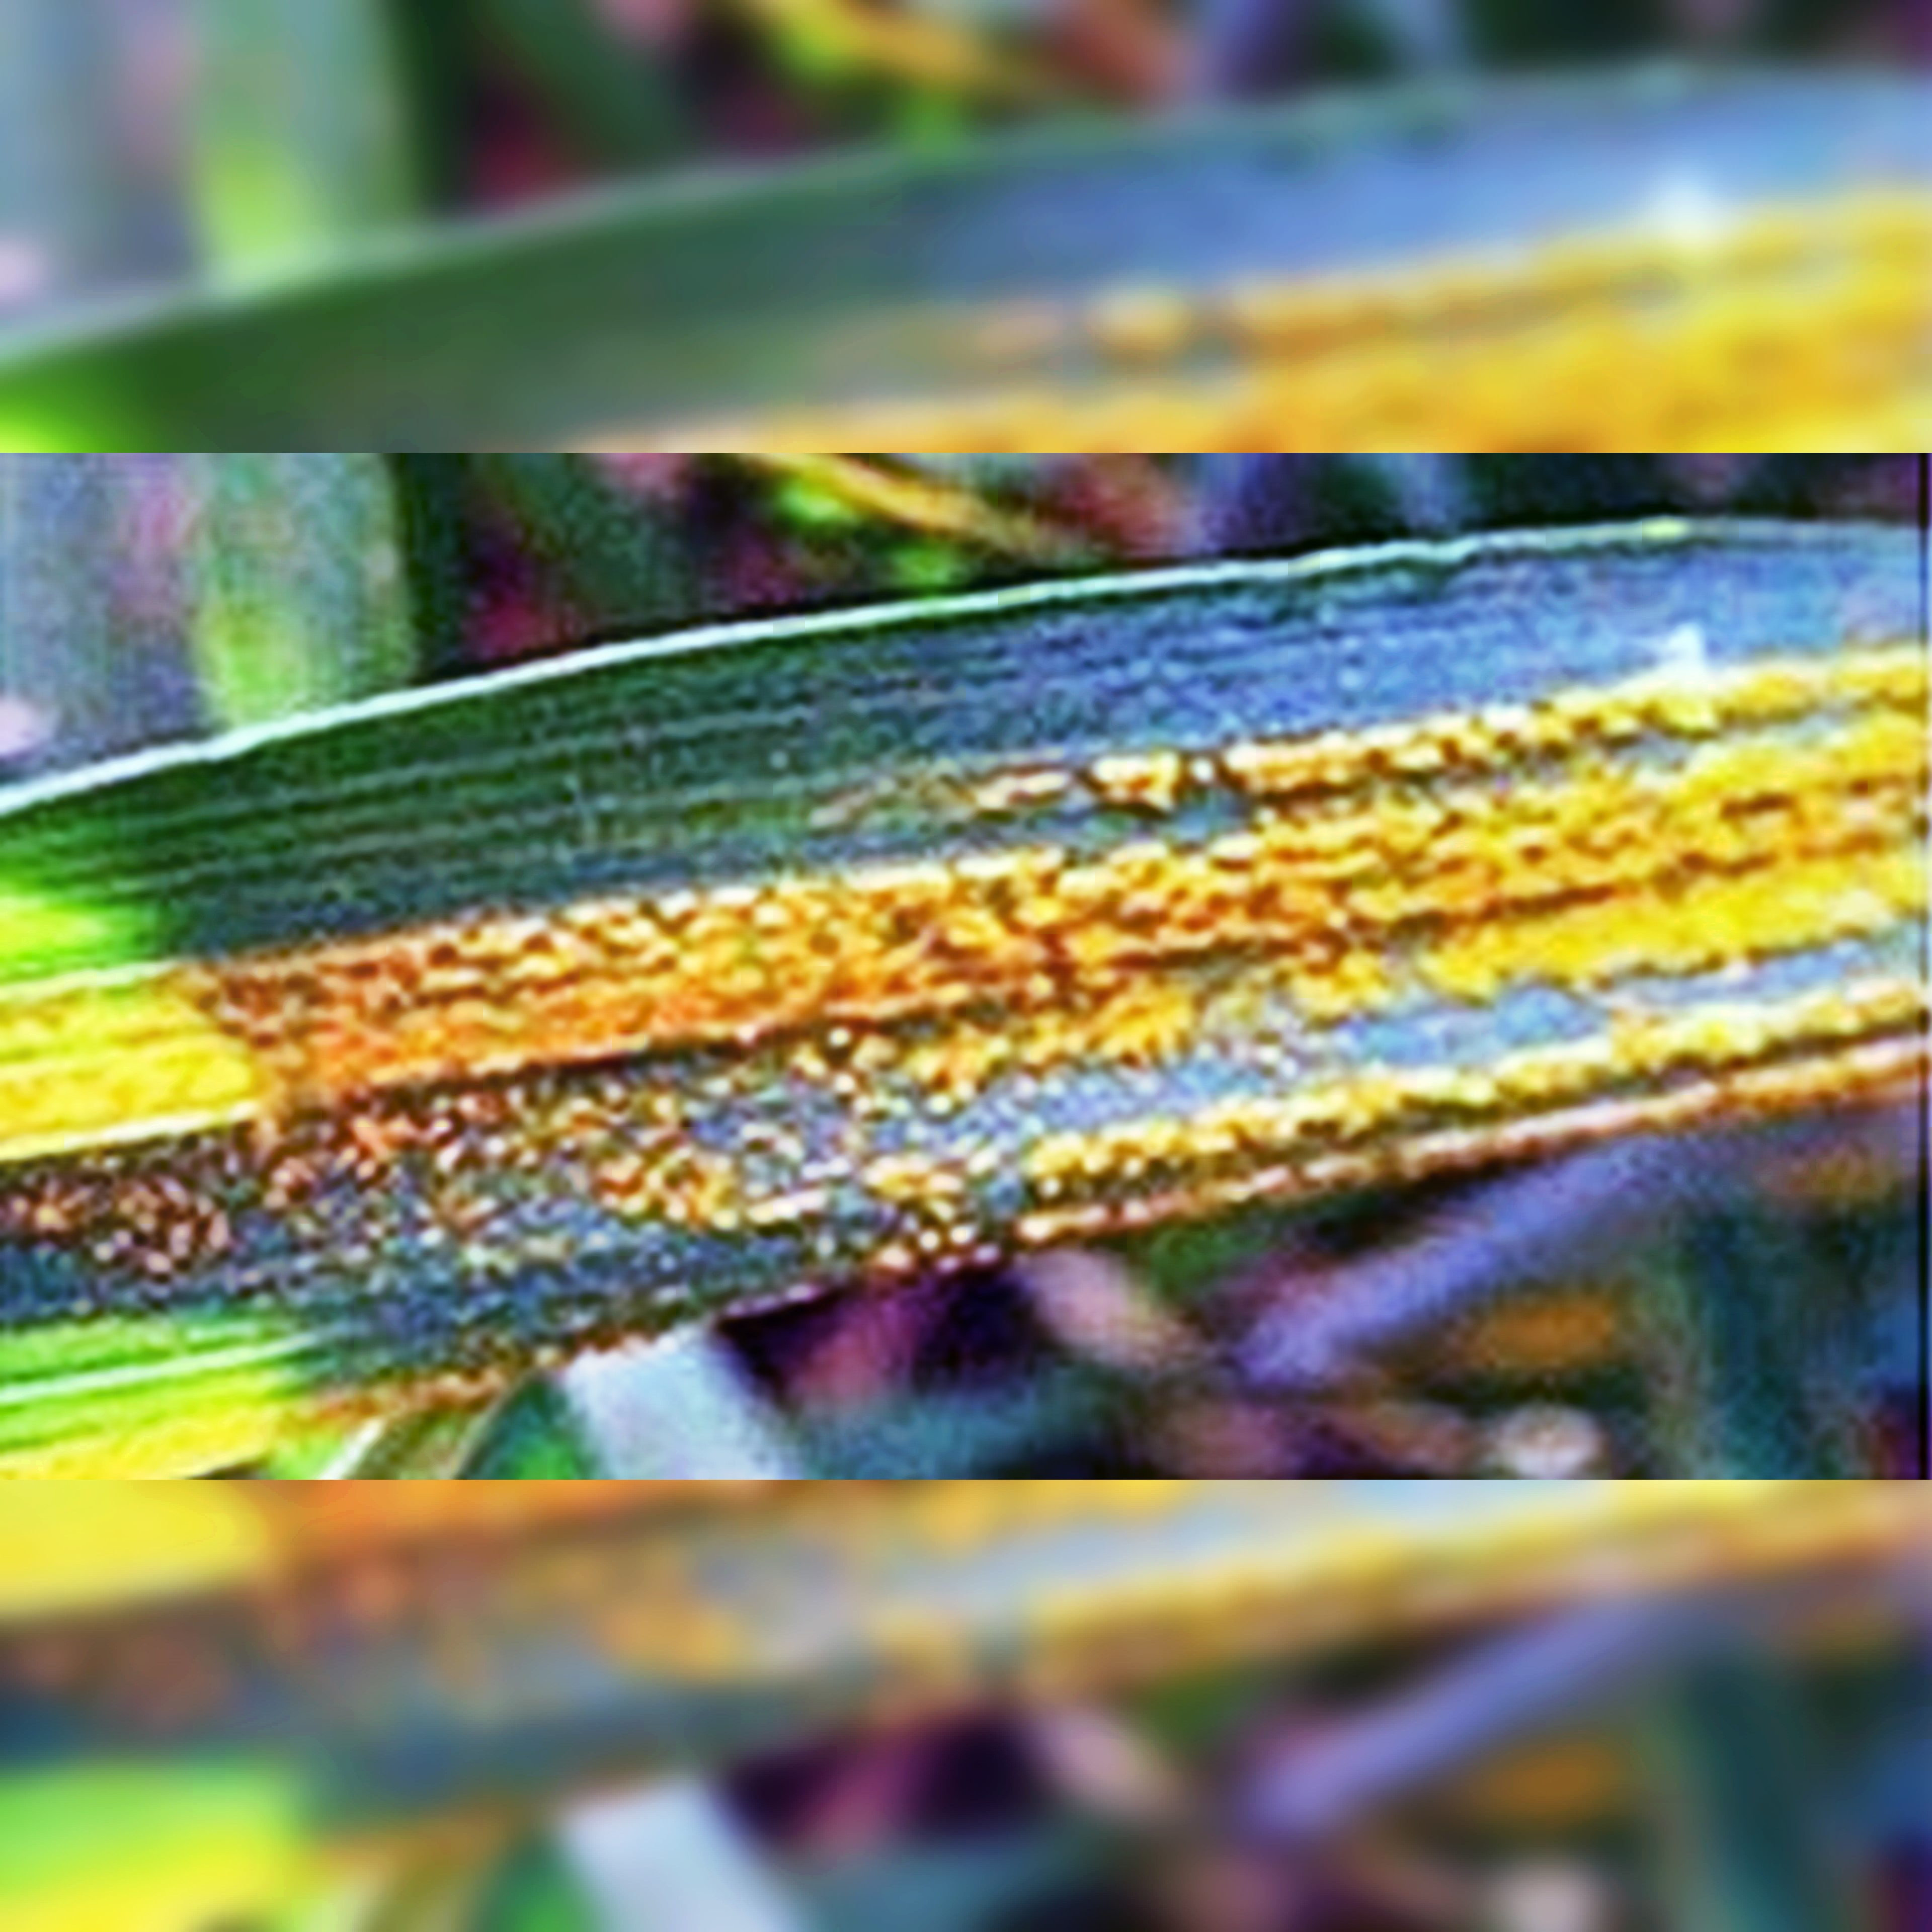Leaf Rust: (133, 510, 1826, 1417)
